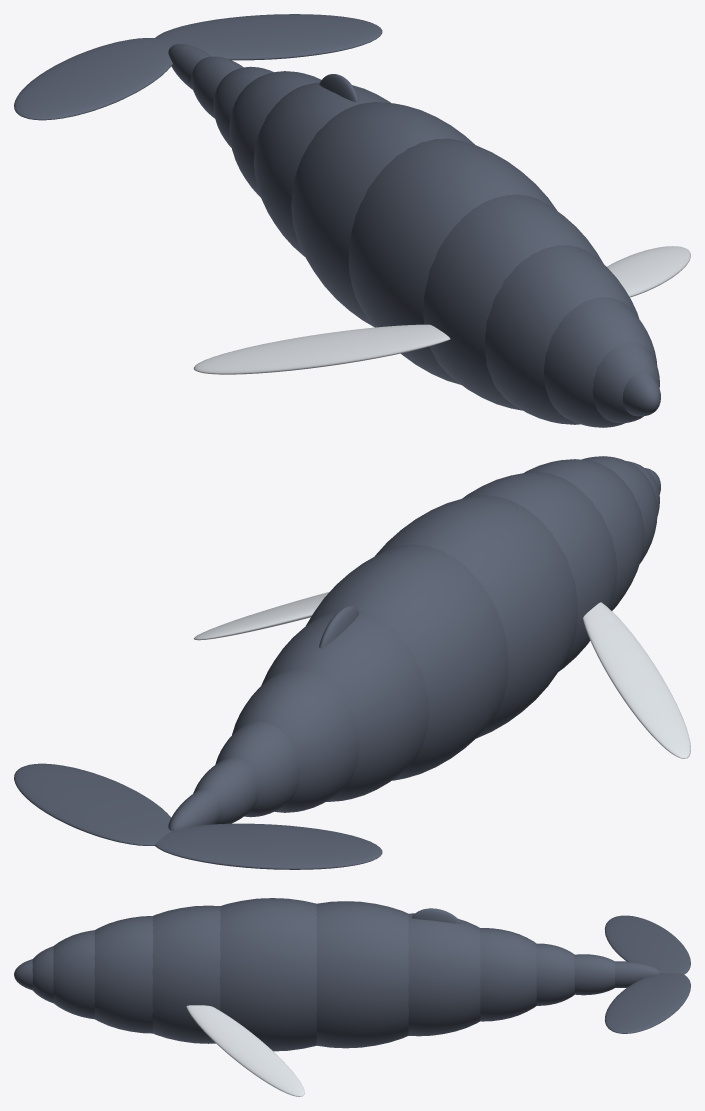
The model's file is whale.glb.
The picture shows the model from 3 angles, top to bottom: view 1: azimuth 30°, elevation 25°; view 2: azimuth 150°, elevation 25°; view 3: azimuth 270°, elevation 25°; orthographic projection. The views are drawn at different scales.
Visible parts, largest first — view 1: whale_part_5, whale_part_4, whale_part_6, whale_part_3, whale_part_12, whale_part_2, whale_part_13, whale_part_7, whale_part_14, whale_part_8, whale_part_1, whale_part_15 (+5 smaller); view 2: whale_part_6, whale_part_5, whale_part_7, whale_part_8, whale_part_4, whale_part_12, whale_part_13, whale_part_14, whale_part_3, whale_part_9, whale_part_10, whale_part_15 (+3 smaller); view 3: whale_part_5, whale_part_6, whale_part_4, whale_part_7, whale_part_3, whale_part_8, whale_part_15, whale_part_13, whale_part_12, whale_part_2, whale_part_9, whale_part_10 (+4 smaller).
Boxes of the visible parts, bbox=[...] form: whale_part_5: bbox=[348, 138, 557, 384]; whale_part_4: bbox=[423, 194, 603, 410]; whale_part_6: bbox=[291, 102, 474, 326]; whale_part_3: bbox=[484, 245, 639, 424]; whale_part_12: bbox=[14, 38, 172, 120]; whale_part_2: bbox=[544, 297, 657, 427]; whale_part_13: bbox=[155, 14, 382, 60]; whale_part_7: bbox=[254, 82, 391, 256]; whale_part_14: bbox=[193, 324, 450, 374]; whale_part_8: bbox=[229, 71, 321, 197]; whale_part_1: bbox=[592, 342, 659, 423]; whale_part_15: bbox=[607, 246, 690, 297]; whale_part_6: bbox=[306, 544, 508, 780]; whale_part_5: bbox=[375, 495, 577, 738]; whale_part_7: bbox=[261, 609, 428, 801]; whale_part_8: bbox=[232, 668, 359, 812]; whale_part_4: bbox=[462, 472, 617, 671]; whale_part_12: bbox=[154, 823, 382, 869]; whale_part_13: bbox=[14, 763, 171, 845]; whale_part_14: bbox=[582, 602, 690, 758]; whale_part_3: bbox=[523, 459, 644, 610]; whale_part_9: bbox=[215, 721, 299, 817]; whale_part_10: bbox=[193, 757, 258, 824]; whale_part_15: bbox=[194, 591, 329, 640]; whale_part_5: bbox=[219, 898, 317, 1051]; whale_part_6: bbox=[316, 901, 408, 1048]; whale_part_4: bbox=[152, 905, 220, 1043]; whale_part_7: bbox=[408, 913, 480, 1036]; whale_part_3: bbox=[94, 916, 153, 1033]; whale_part_8: bbox=[480, 928, 536, 1021]; whale_part_15: bbox=[186, 1005, 304, 1096]; whale_part_13: bbox=[604, 973, 690, 1033]; whale_part_12: bbox=[604, 915, 690, 974]; whale_part_2: bbox=[53, 930, 94, 1019]; whale_part_9: bbox=[536, 943, 574, 1005]; whale_part_10: bbox=[574, 954, 615, 995].
Size of the model in its own units: 8.34 by 3.44 by 14.79.
